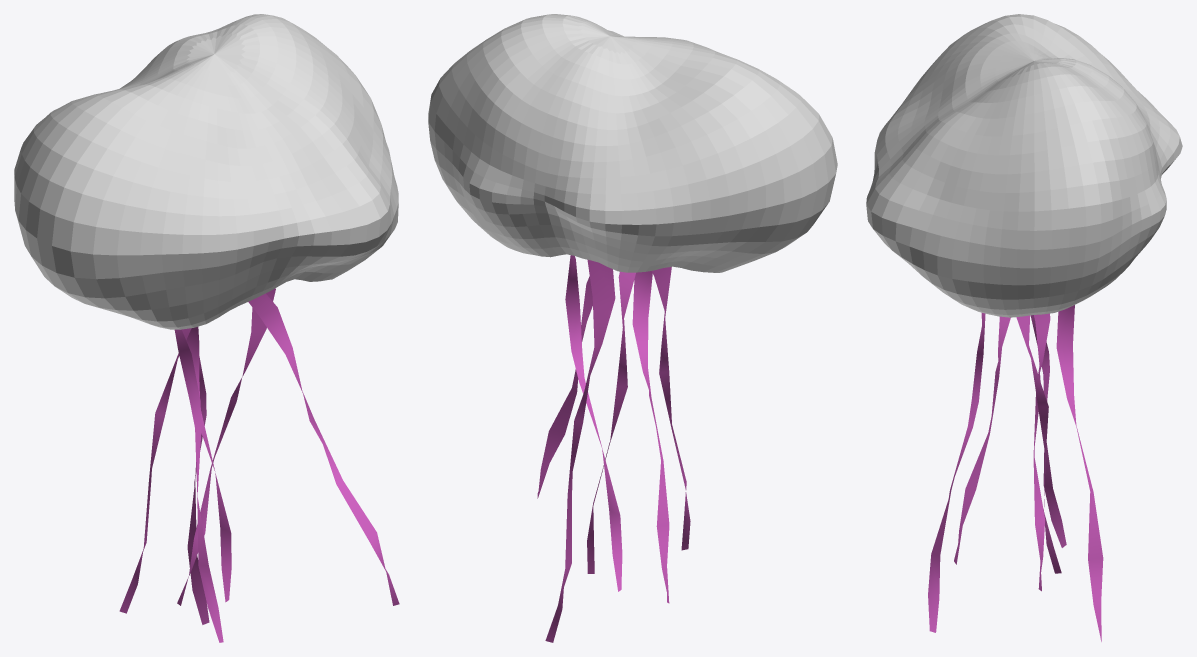
Rendered from jellyfish.fbx.
The picture shows the model from 3 angles, left to right: view 1: azimuth 30°, elevation 25°; view 2: azimuth 150°, elevation 25°; view 3: azimuth 270°, elevation 25°; orthographic projection. The views are drawn at different scales.
Visible parts, largest first — view 1: body, arms; view 2: body, arms; view 3: body, arms.
Part boxes in pixels (<box>): body: <box>14,14,398,329</box>; arms: <box>119,288,399,642</box>; body: <box>428,14,837,272</box>; arms: <box>537,255,690,642</box>; body: <box>866,14,1182,317</box>; arms: <box>928,305,1103,641</box>.
Bounding box in the file's own units: 190 × 305 × 151.
